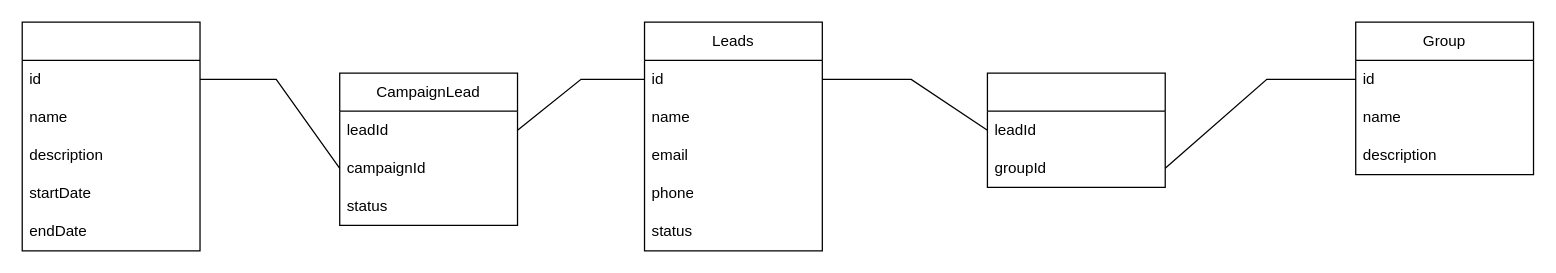
Image size: 1556x273. Some labels were removed from this diagram. Here are the shapes that lost their labels. From the top down, the box of each, then its label:
(21, 21, 200, 251): Campaign
(986, 72, 1165, 187): _Group_Lead
